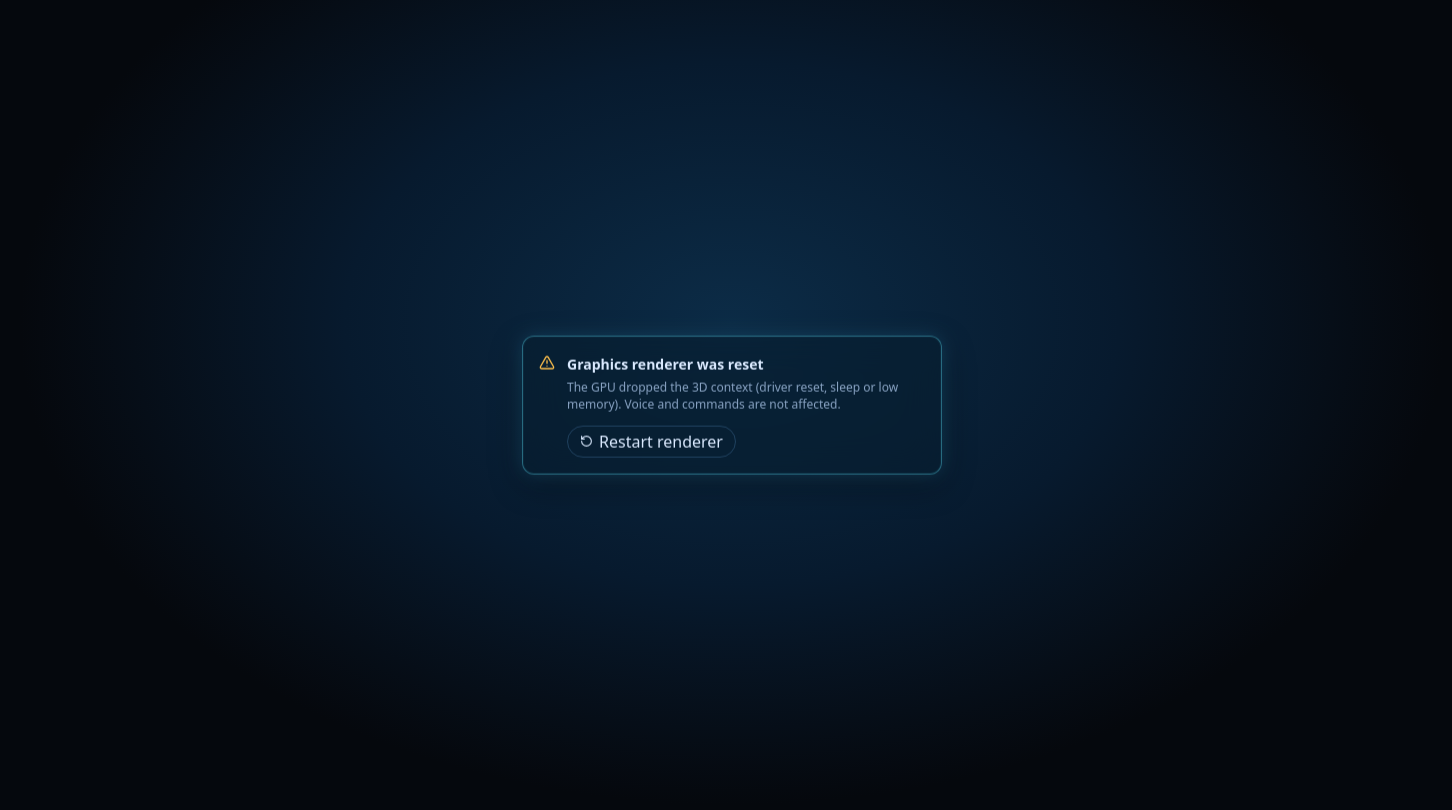
Scenario: RendererGuard › shows a notice when the GPU context is lost and remounts the scene on restart
The image size is (1452, 810).
Later steps or results of the test are not shown.
Step 1. Click the button "Restart renderer" → (651, 441), box top-left (567, 425), bottom-right (736, 457)
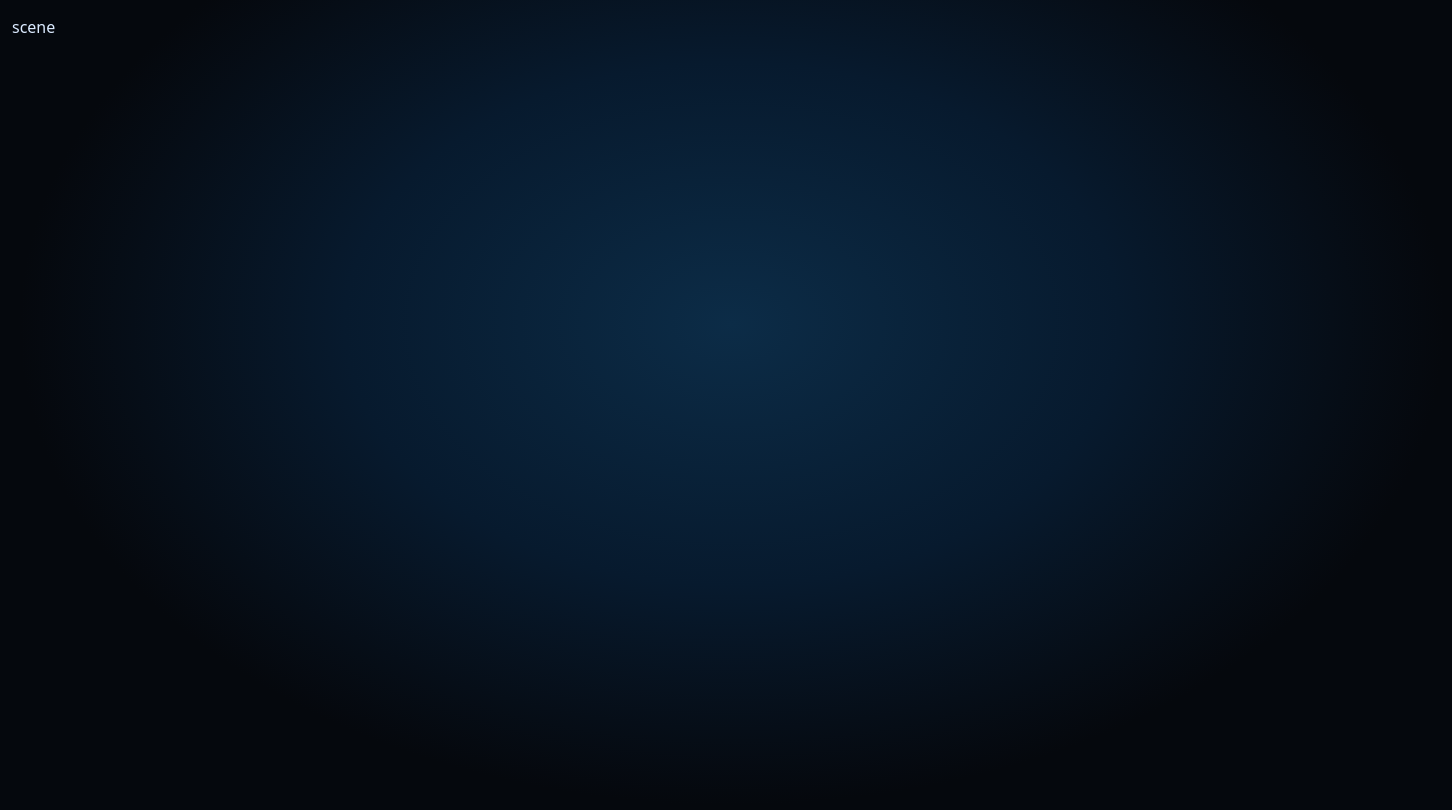
Expected: the text "scene" is shown, top-left (12, 16), bottom-right (55, 38)
